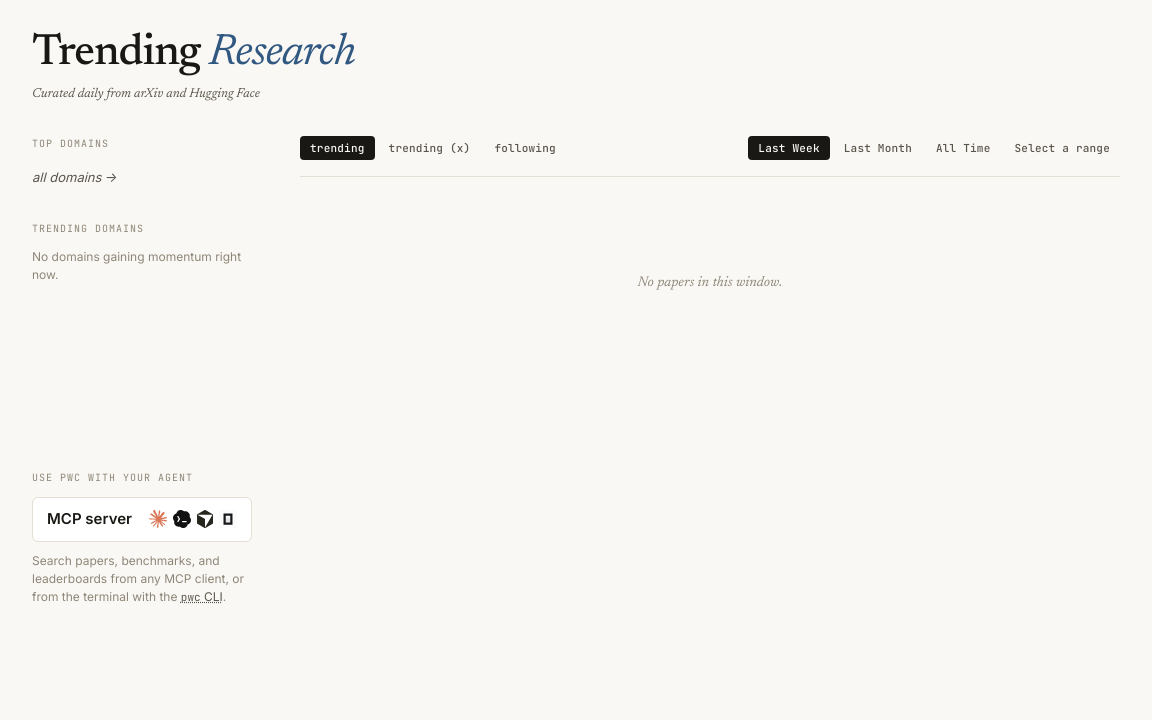
opens Following from the public feed
Expected: the text "No papers in this window." is shown, [638, 276, 782, 290]
Step 1. Click the button "following" → (525, 148), box [484, 136, 566, 160]
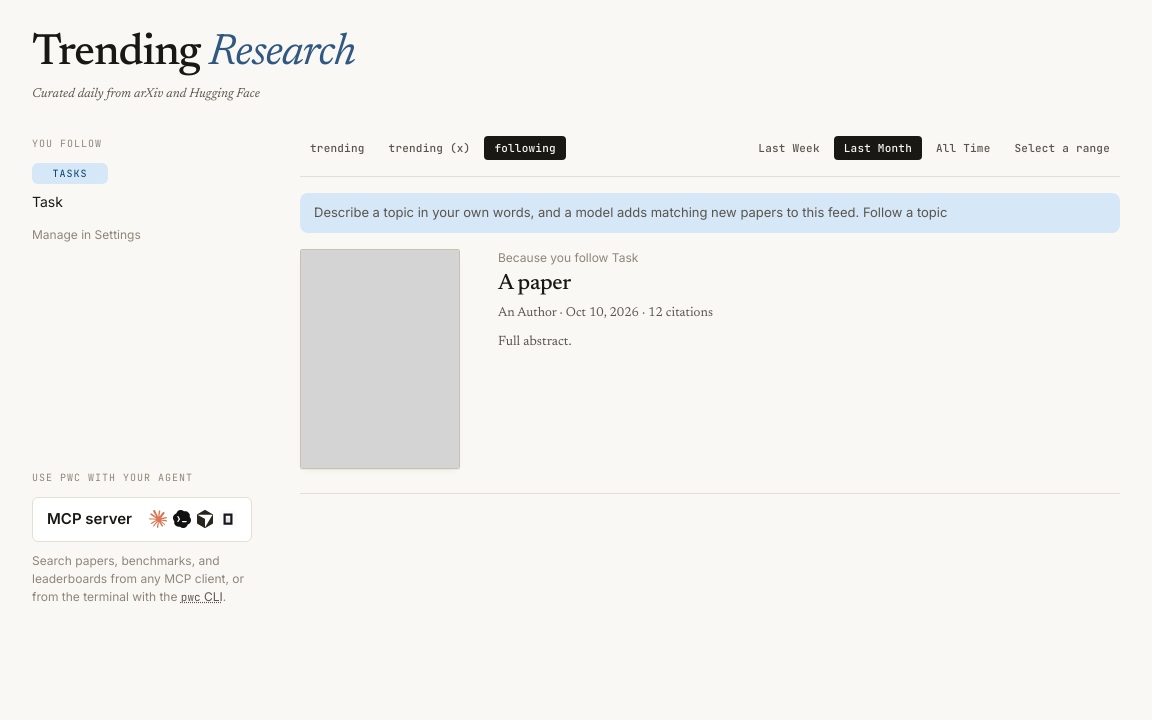
Expected: the text "A paper" is shown, [498, 272, 571, 294]
